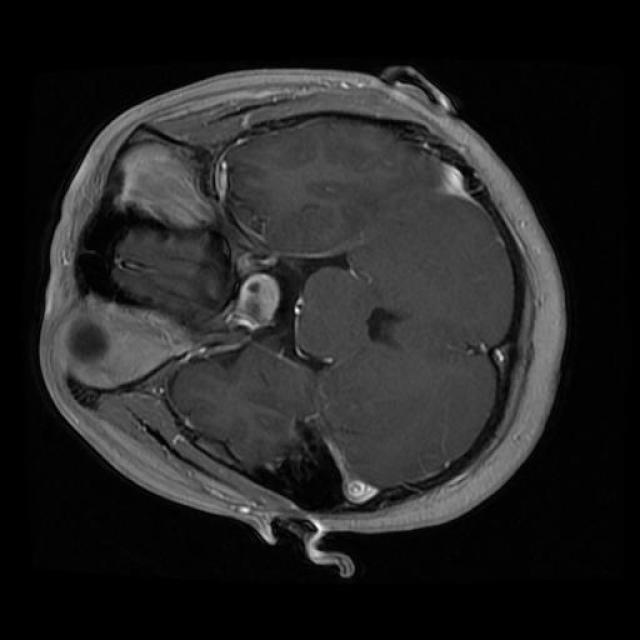Pituitary: (235, 273, 281, 329)
